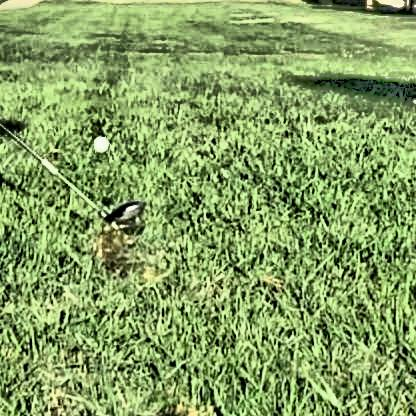golfball: (90, 132, 107, 151)
